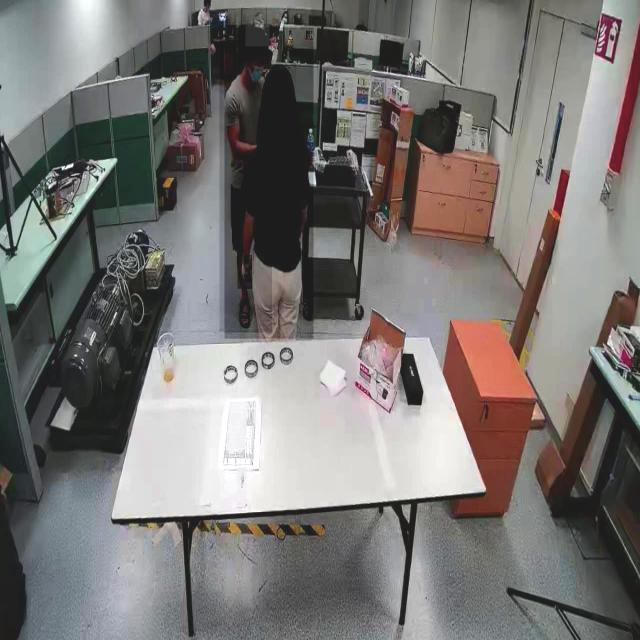face_mask: (246, 46, 268, 92)
hand_glove: (237, 255, 252, 290)
head_nohelmet: (262, 62, 296, 90), (245, 25, 269, 47)
person: (224, 28, 314, 340), (219, 25, 272, 332)
